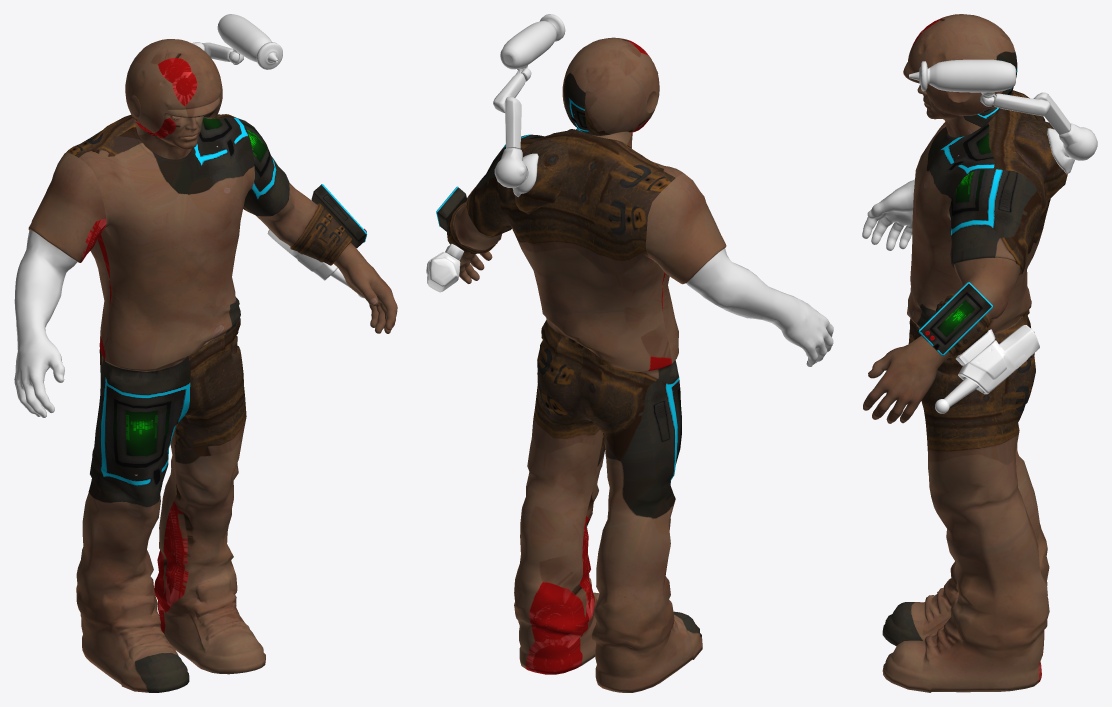
The model's file is KeenDoomYup.fbx.
3 renders of one model, left to right at view 1: azimuth 30°, elevation 25°; view 2: azimuth 150°, elevation 25°; view 3: azimuth 270°, elevation 25°, orthographic. The views are drawn at different scales.
Parts seen in each view (by area): view 1: Object_11, Object_13, Object_2, Object_3, Object_8, Object_10, Object_7, Object_9; view 2: Object_11, Object_13, Object_8, Object_3, Object_10, Object_2, Object_9; view 3: Object_11, Object_13, Object_2, Object_10, Object_8, Object_9, Object_3, Object_7.
Part boxes in pixels (x1,y1,x2,y2): Object_11: [76, 318, 265, 692]; Object_13: [28, 114, 289, 371]; Object_2: [256, 183, 397, 333]; Object_3: [14, 229, 77, 417]; Object_8: [125, 39, 222, 132]; Object_10: [192, 14, 282, 69]; Object_7: [136, 114, 203, 159]; Object_9: [267, 229, 364, 298]; Object_11: [514, 320, 702, 692]; Object_13: [466, 129, 726, 371]; Object_8: [562, 37, 659, 135]; Object_3: [686, 248, 833, 366]; Object_10: [493, 14, 565, 196]; Object_2: [436, 186, 502, 283]; Object_9: [426, 244, 463, 292]; Object_11: [882, 309, 1049, 692]; Object_13: [907, 90, 1067, 334]; Object_2: [863, 257, 1020, 423]; Object_10: [909, 59, 1097, 174]; Object_8: [903, 14, 1017, 115]; Object_9: [935, 325, 1039, 413]; Object_3: [862, 179, 914, 250]; Object_7: [917, 85, 999, 137].
Bounding box in the file's own units: 6601 × 19832 × 12542.
12 materials, 7 textured.
